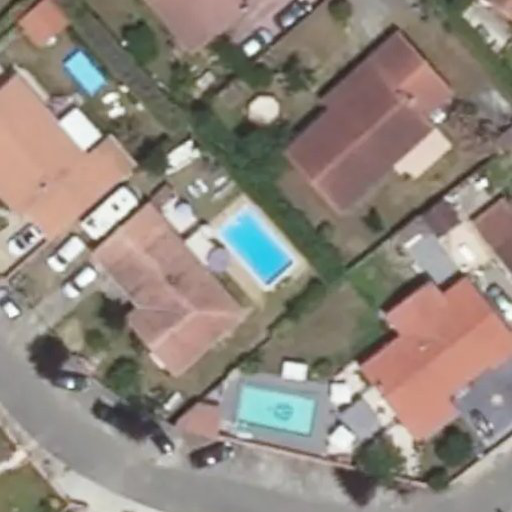pool: (210, 223, 300, 260)
